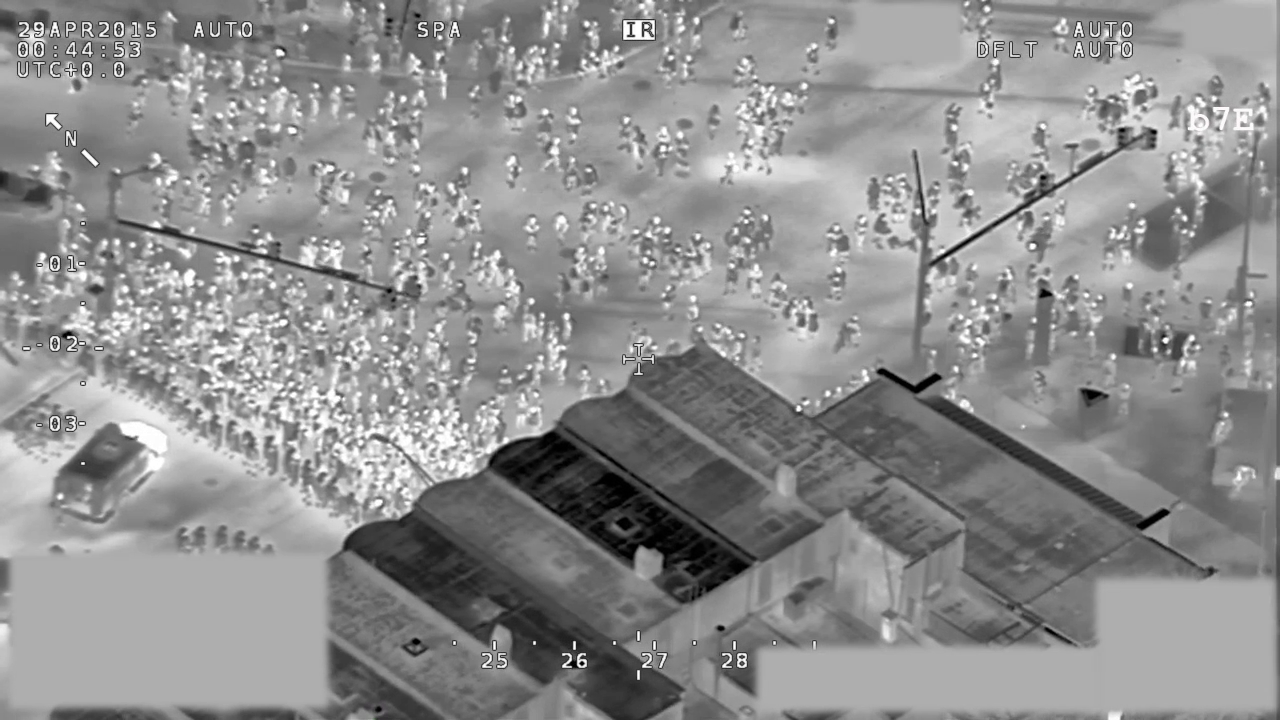vehicle: (44, 417, 177, 529)
